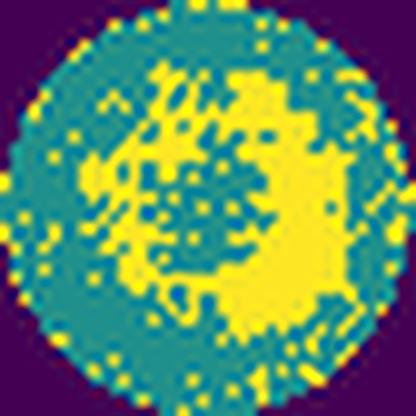Donut: (80, 62, 355, 343)
